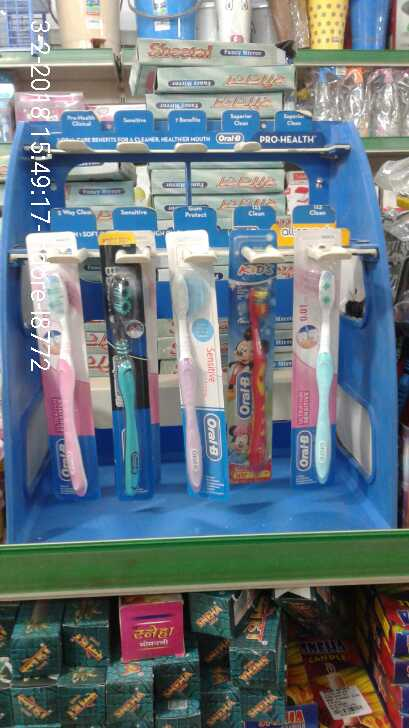oralb: (32, 256, 92, 502), (292, 239, 345, 494), (168, 258, 222, 506), (229, 264, 281, 486), (107, 259, 142, 510)
